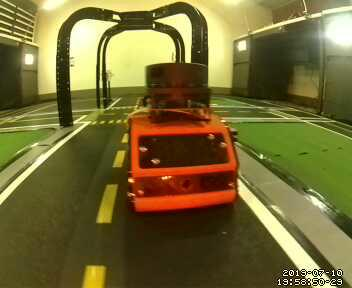pheeno: (126, 62, 240, 215)
